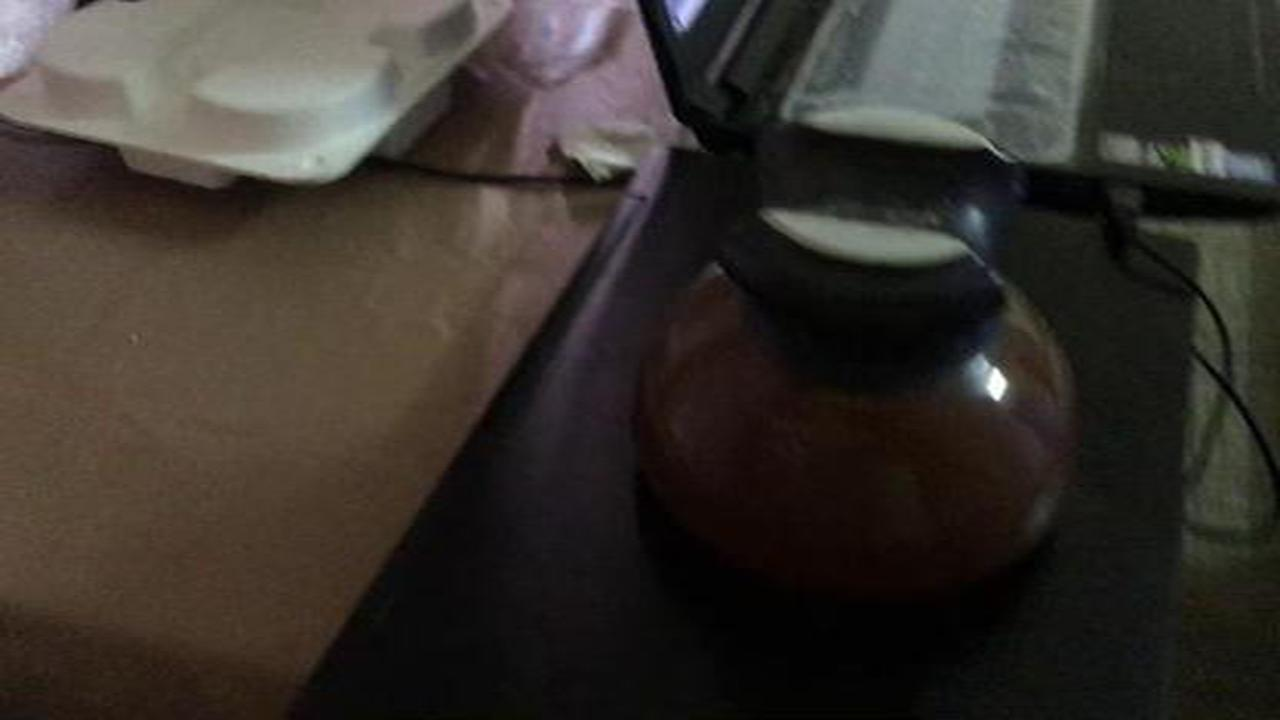insulator_pin: (616, 94, 1111, 629)
